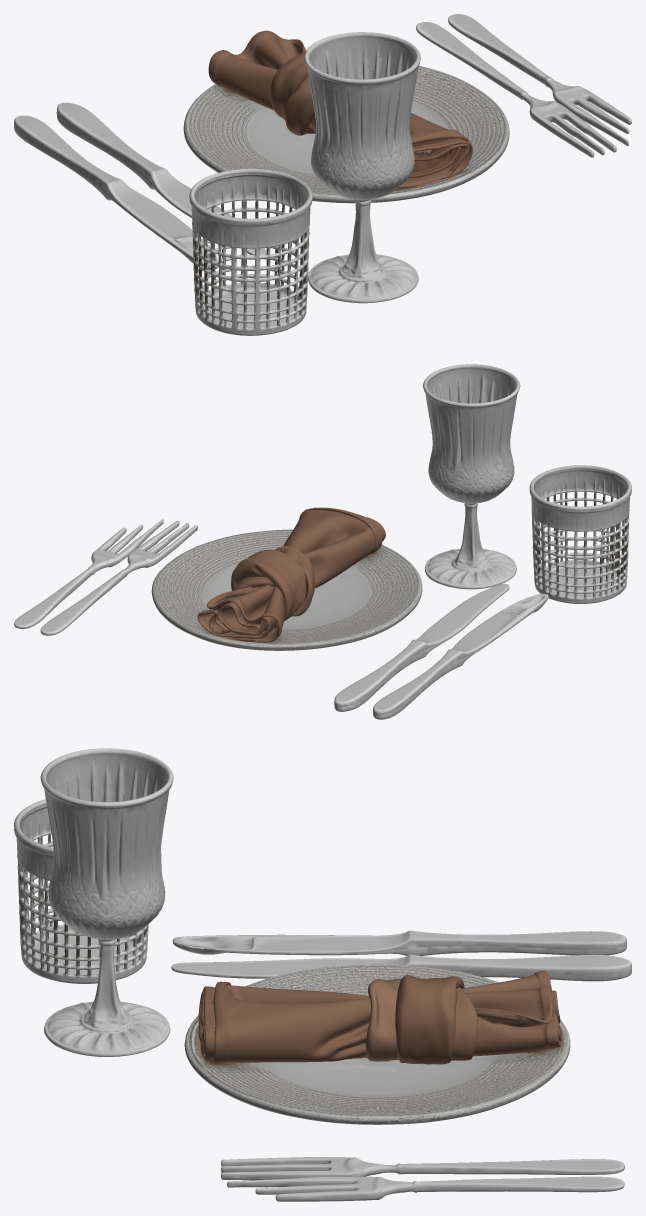
File: decor-place-setting-tied.glb
3 renders of one model, top to bottom at view 1: azimuth 30°, elevation 25°; view 2: azimuth 150°, elevation 25°; view 3: azimuth 270°, elevation 25°, orthographic. The views are drawn at different scales.
Visible parts, largest first — view 1: tripo_part_1, tripo_part_0, tripo_part_3, tripo_part_2, tripo_part_5, tripo_part_9, tripo_part_7, tripo_part_4, tripo_part_8, tripo_part_12, tripo_part_11, tripo_part_6 (+1 smaller); view 2: tripo_part_3, tripo_part_1, tripo_part_0, tripo_part_2, tripo_part_4, tripo_part_9, tripo_part_5, tripo_part_7, tripo_part_8, tripo_part_12, tripo_part_11, tripo_part_10; view 3: tripo_part_1, tripo_part_3, tripo_part_2, tripo_part_4, tripo_part_0, tripo_part_5, tripo_part_9, tripo_part_8, tripo_part_7, tripo_part_12, tripo_part_11, tripo_part_13 (+2 smaller).
Boxes of the visible parts, bbox=[...] form: tripo_part_1: bbox=[304, 32, 420, 303]; tripo_part_0: bbox=[189, 168, 312, 335]; tripo_part_3: bbox=[183, 66, 509, 203]; tripo_part_2: bbox=[208, 30, 315, 135]; tripo_part_5: bbox=[14, 115, 197, 248]; tripo_part_9: bbox=[56, 102, 232, 217]; tripo_part_7: bbox=[520, 91, 616, 157]; tripo_part_4: bbox=[312, 113, 472, 188]; tripo_part_8: bbox=[547, 79, 631, 145]; tripo_part_12: bbox=[416, 22, 524, 98]; tripo_part_11: bbox=[448, 14, 553, 87]; tripo_part_6: bbox=[408, 146, 461, 178]; tripo_part_3: bbox=[151, 529, 422, 650]; tripo_part_1: bbox=[423, 364, 520, 589]; tripo_part_0: bbox=[529, 465, 631, 603]; tripo_part_2: bbox=[197, 549, 315, 642]; tripo_part_4: bbox=[283, 507, 385, 588]; tripo_part_9: bbox=[334, 595, 490, 711]; tripo_part_5: bbox=[373, 610, 530, 719]; tripo_part_7: bbox=[122, 520, 197, 575]; tripo_part_8: bbox=[90, 519, 163, 571]; tripo_part_12: bbox=[40, 570, 126, 635]; tripo_part_11: bbox=[14, 567, 97, 628]; tripo_part_10: bbox=[502, 593, 548, 617]; tripo_part_1: bbox=[40, 748, 173, 1056]; tripo_part_3: bbox=[184, 964, 570, 1124]; tripo_part_2: bbox=[374, 970, 561, 1064]; tripo_part_4: bbox=[200, 981, 390, 1064]; tripo_part_0: bbox=[14, 799, 148, 983]; tripo_part_5: bbox=[241, 930, 626, 955]; tripo_part_9: bbox=[224, 954, 631, 981]; tripo_part_8: bbox=[227, 1176, 412, 1201]; tripo_part_7: bbox=[221, 1157, 401, 1180]; tripo_part_12: bbox=[399, 1159, 624, 1174]; tripo_part_11: bbox=[411, 1176, 624, 1192]; tripo_part_13: bbox=[363, 980, 398, 1060].
Size of the model in its own units: 0.45 by 0.1861 by 0.4082.
Materials: 20 (11 with a texture image).
